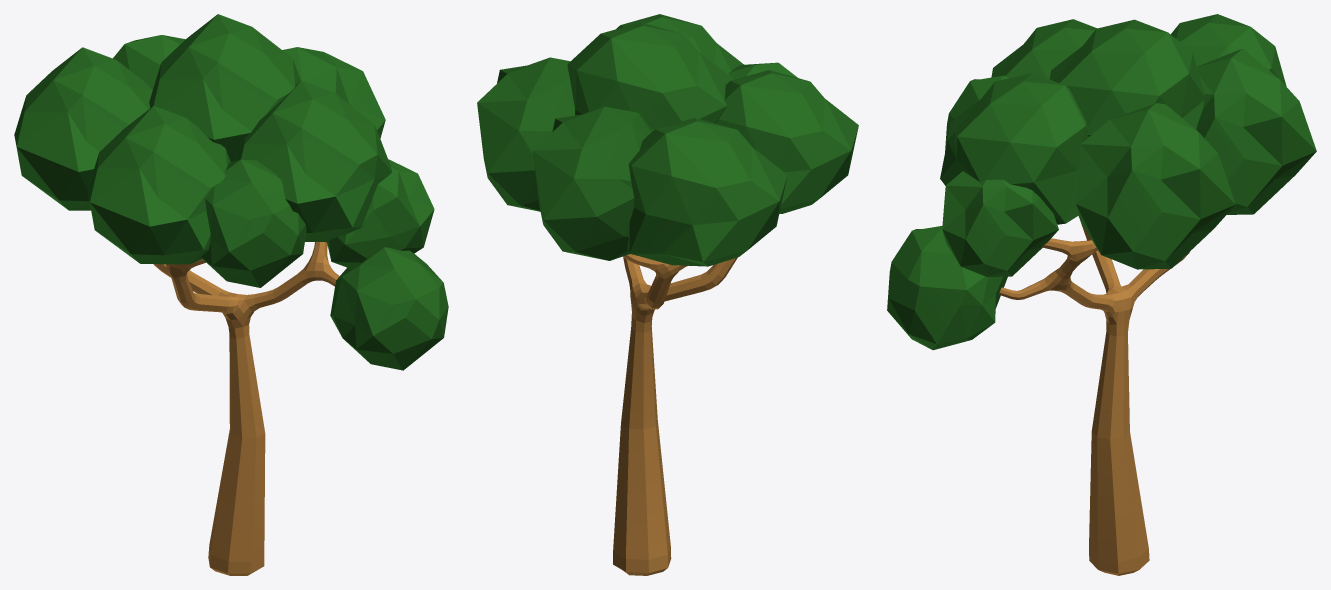
File: tree.009_lev4.glb
3 renders of one model, left to right at view 1: azimuth 30°, elevation 25°; view 2: azimuth 150°, elevation 25°; view 3: azimuth 270°, elevation 25°, orthographic. The views are drawn at different scales.
Visible parts, largest first — view 1: tree.009_lev4; view 2: tree.009_lev4; view 3: tree.009_lev4.
Boxes of the visible parts, x1,y1,x2,y2 form: tree.009_lev4: (14, 14, 448, 575); tree.009_lev4: (477, 14, 858, 575); tree.009_lev4: (887, 14, 1316, 575).
Size of the model in its own units: 1.73 by 2.76 by 1.99.
